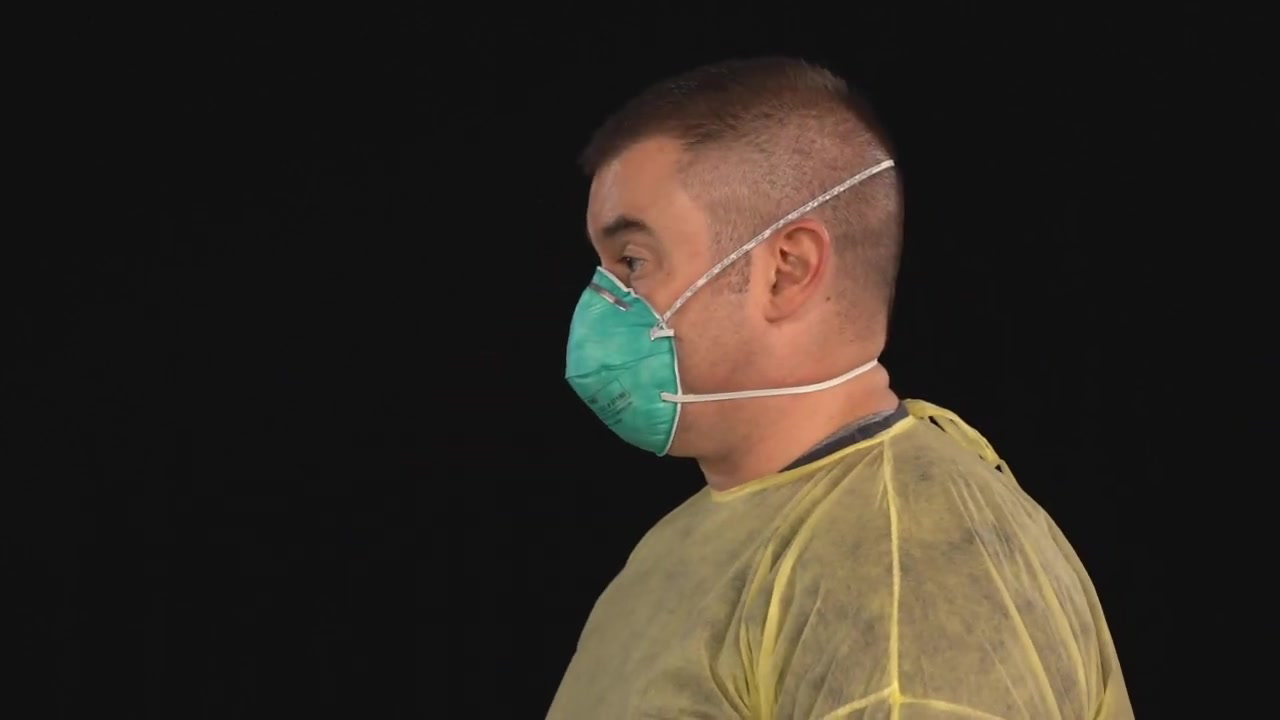Coverall: (539, 465, 1126, 720)
with_mask: (548, 220, 721, 459)
